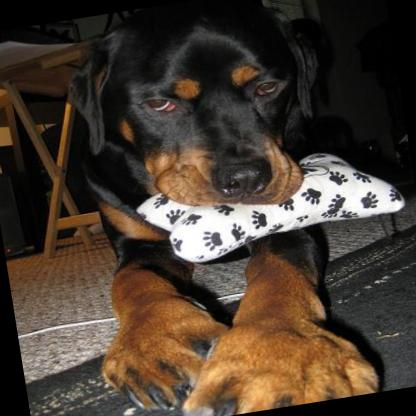Rottweiler: (43, 0, 379, 416)
